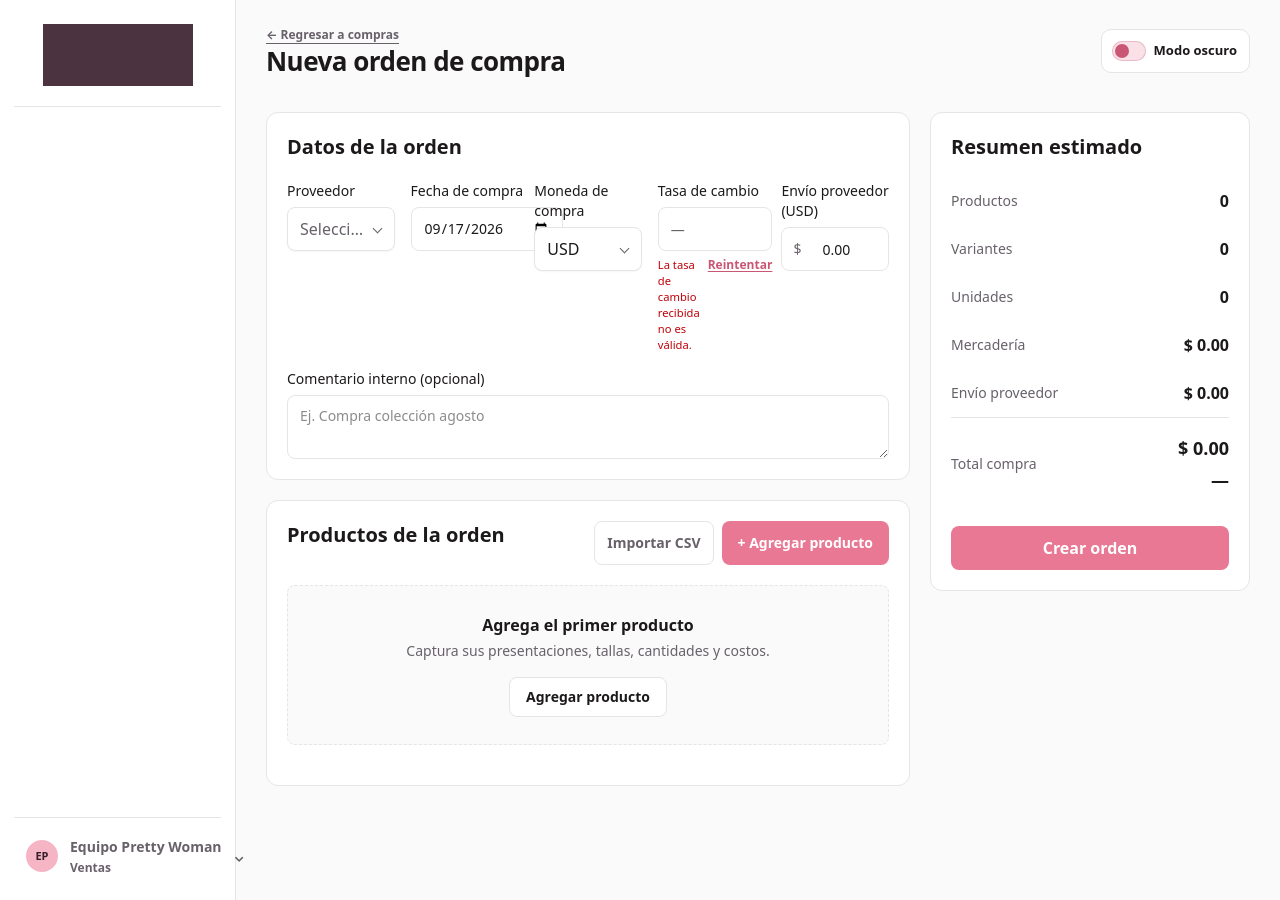
Test case: PurchaseOrderCreatePage › closes the CSV importer with Escape and traps focus inside the dialog
Expected: the text "Agrega el primer producto" is shown, [482,614,694,636]
Click the button "Importar CSV" at (654, 543), box [594,521,714,565]
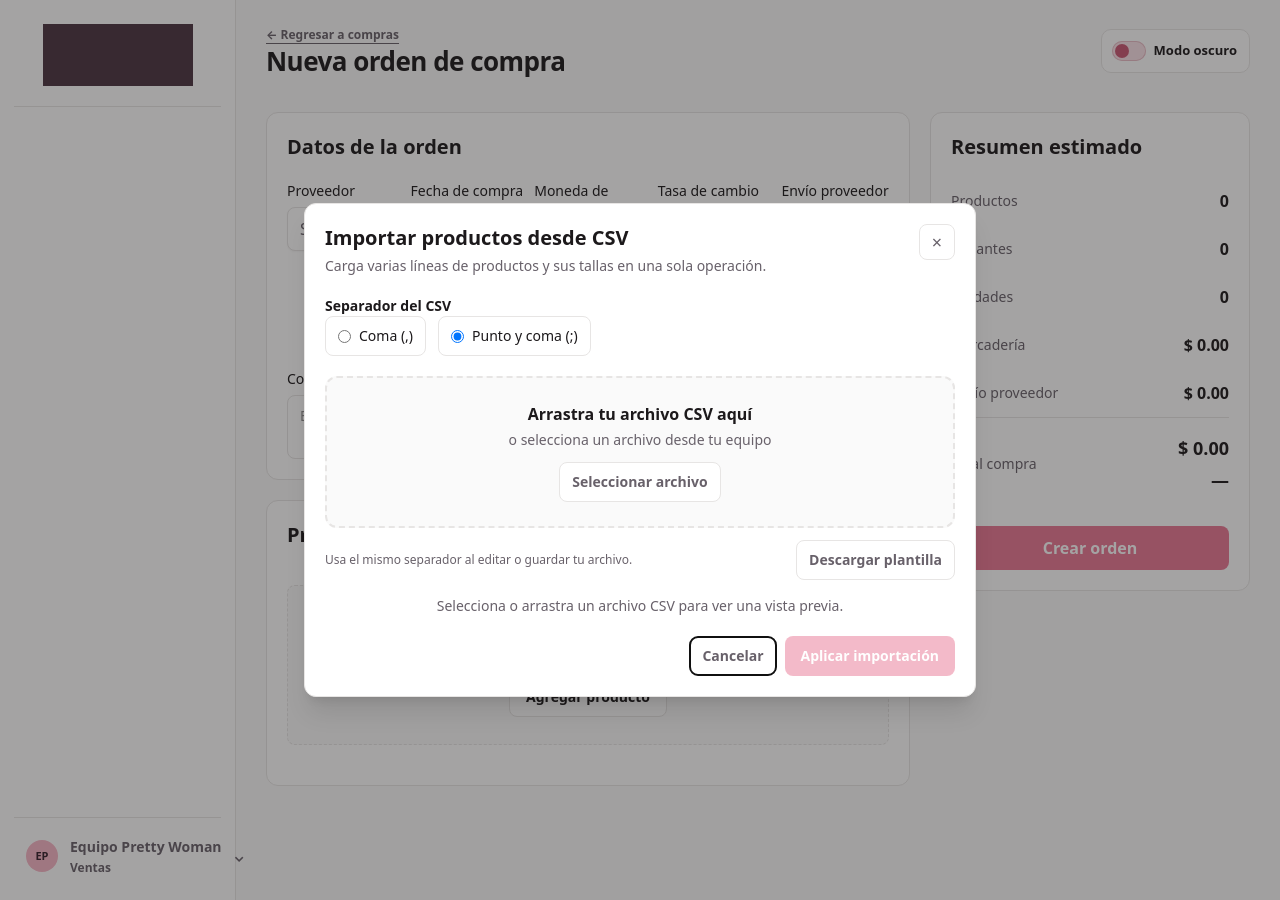
Press Tab
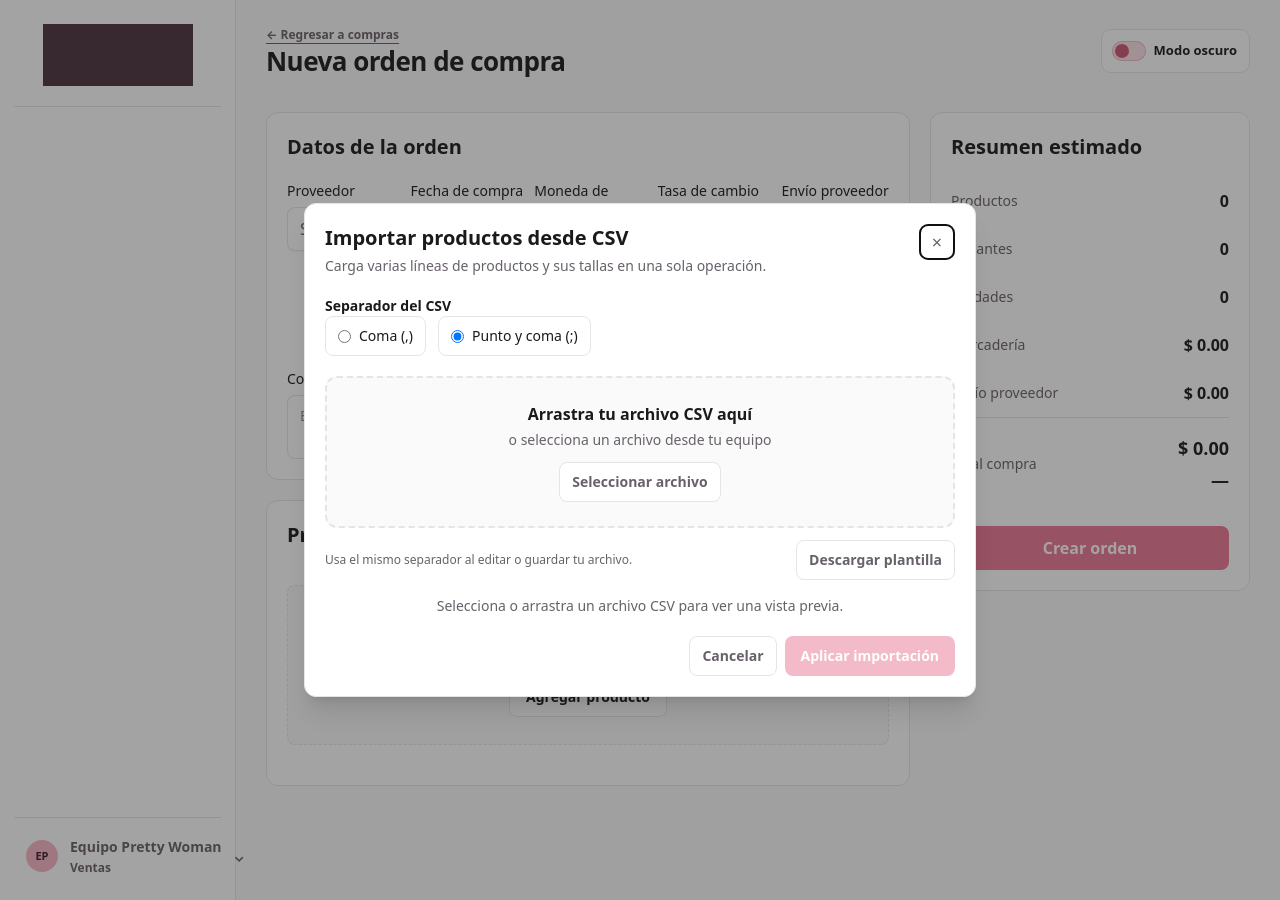
Press Escape
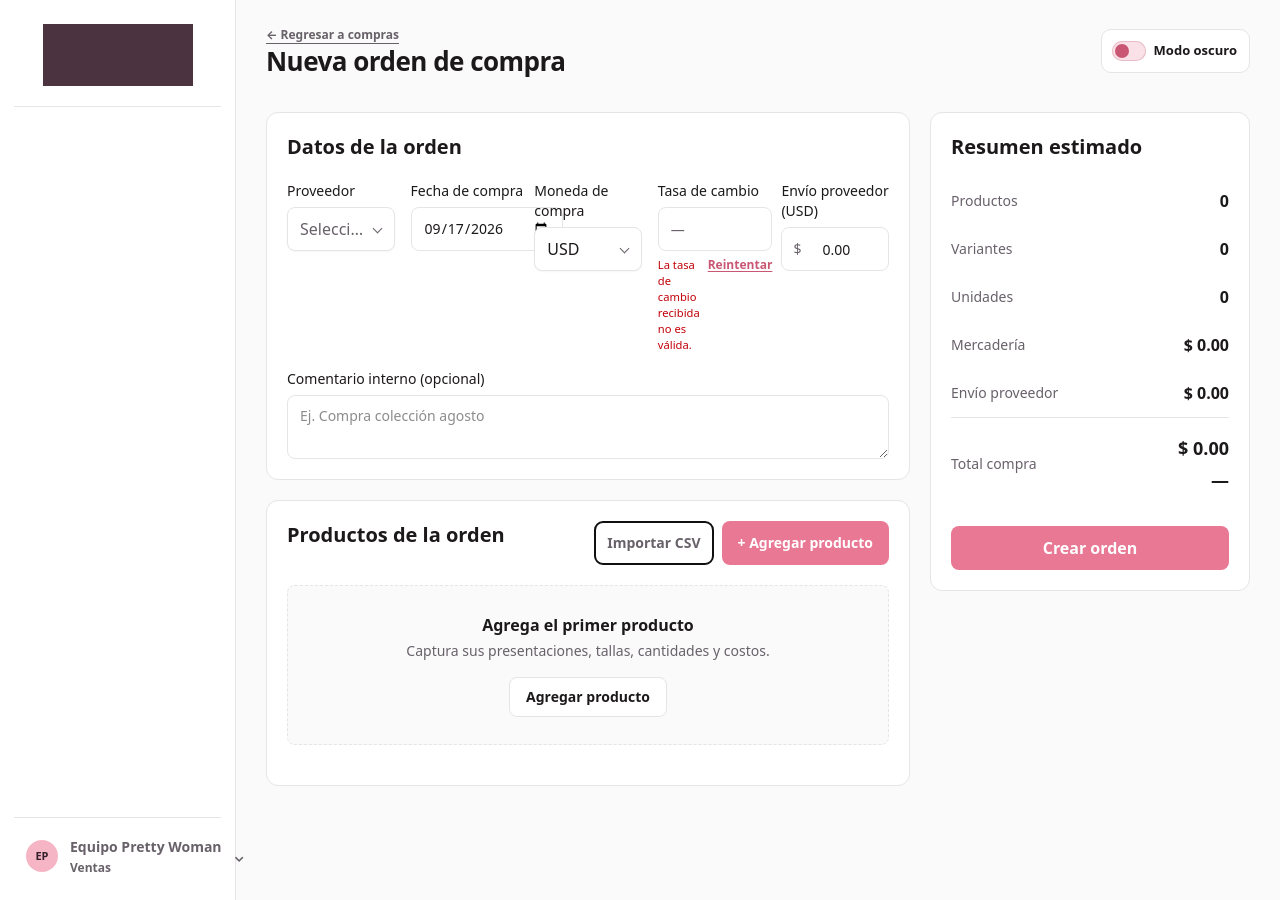
Expected: the heading "Importar productos desde CSV" is gone
